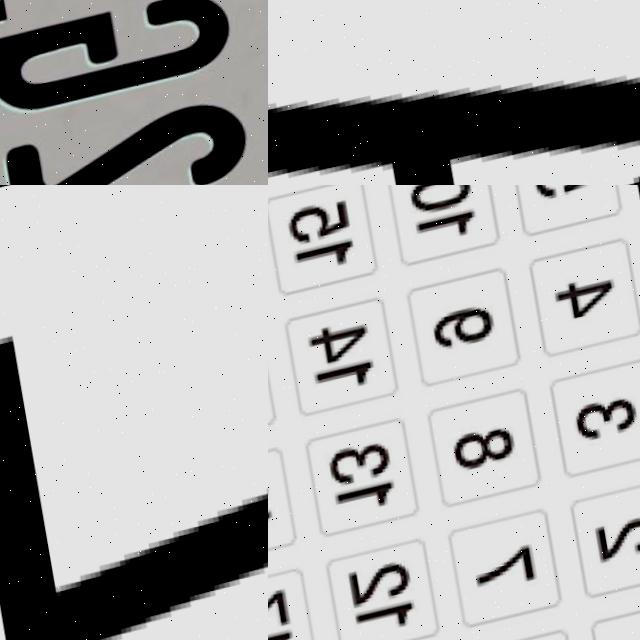0: (400, 185, 475, 227)
1: (396, 204, 495, 255), (321, 480, 410, 527), (289, 238, 359, 282), (305, 361, 377, 403), (341, 601, 416, 640)
2: (7, 93, 257, 185), (345, 557, 420, 614), (587, 511, 640, 574)
3: (566, 393, 639, 457), (316, 438, 394, 494)
4: (298, 319, 373, 374), (549, 277, 619, 335)
5: (281, 194, 357, 255), (528, 185, 598, 216)
7: (464, 549, 538, 601), (268, 591, 291, 640)
8: (445, 423, 521, 482)
9: (422, 307, 500, 365)
A: (268, 0, 640, 185)
G: (0, 0, 236, 123)
L: (0, 202, 268, 640)
